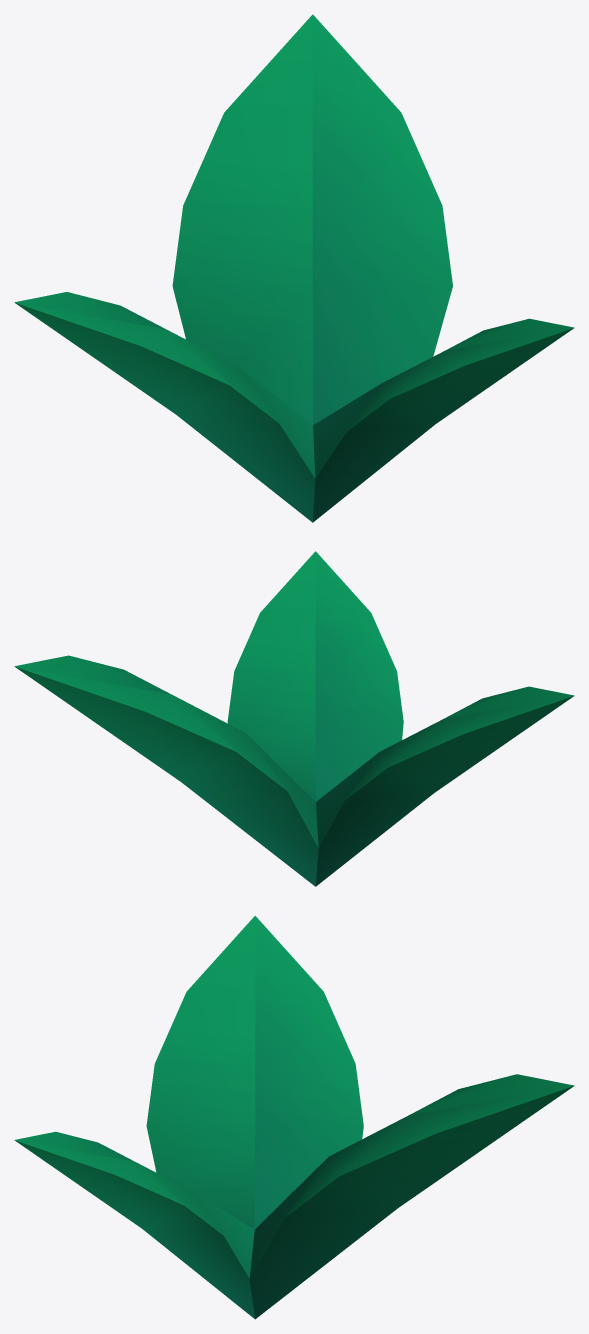
The model's file is waterplant.glb.
The picture shows the model from 3 angles, top to bottom: view 1: azimuth 30°, elevation 25°; view 2: azimuth 150°, elevation 25°; view 3: azimuth 270°, elevation 25°; orthographic projection. The views are drawn at different scales.
Visible parts, largest first — view 1: waterplant_A; view 2: waterplant_A; view 3: waterplant_A.
Boxes of the visible parts, bbox=[...] form: waterplant_A: bbox=[14, 14, 574, 522]; waterplant_A: bbox=[14, 551, 574, 886]; waterplant_A: bbox=[14, 915, 574, 1319].
Bounding box in the file's own units: 0.1983 × 0.1323 × 0.2157.
Materials: 1 (1 with a texture image).
